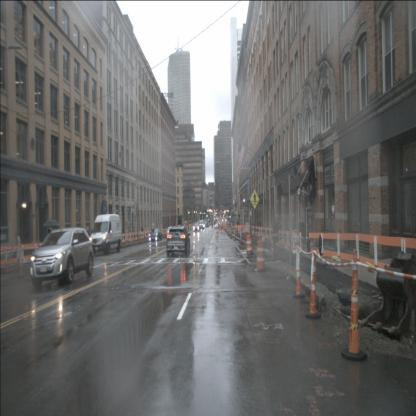human-pedestrian-adult: (16, 232, 22, 262), (259, 218, 262, 234), (252, 218, 254, 233), (212, 221, 214, 228)
movable_object-trafficcone: (341, 249, 368, 362), (306, 244, 322, 320), (293, 239, 305, 300), (254, 237, 270, 272), (17, 243, 25, 278), (244, 234, 254, 256), (269, 232, 276, 262), (5, 243, 10, 274), (240, 230, 243, 245), (234, 230, 236, 242), (230, 228, 232, 237)
vehicle-car: (30, 227, 94, 287), (88, 214, 122, 255), (166, 224, 190, 256), (149, 228, 163, 241), (198, 221, 204, 230), (194, 224, 199, 233)
